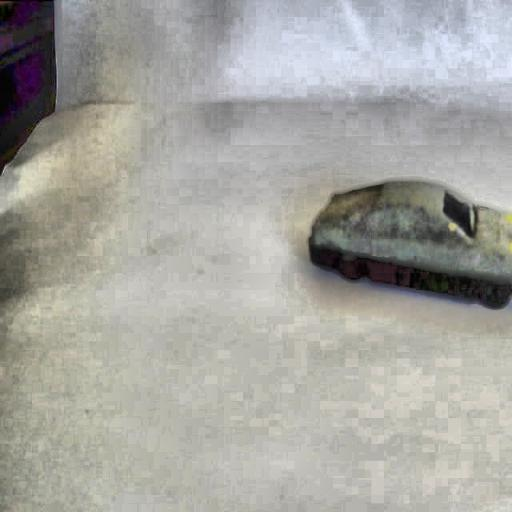normal_car: (302, 171, 512, 316)
